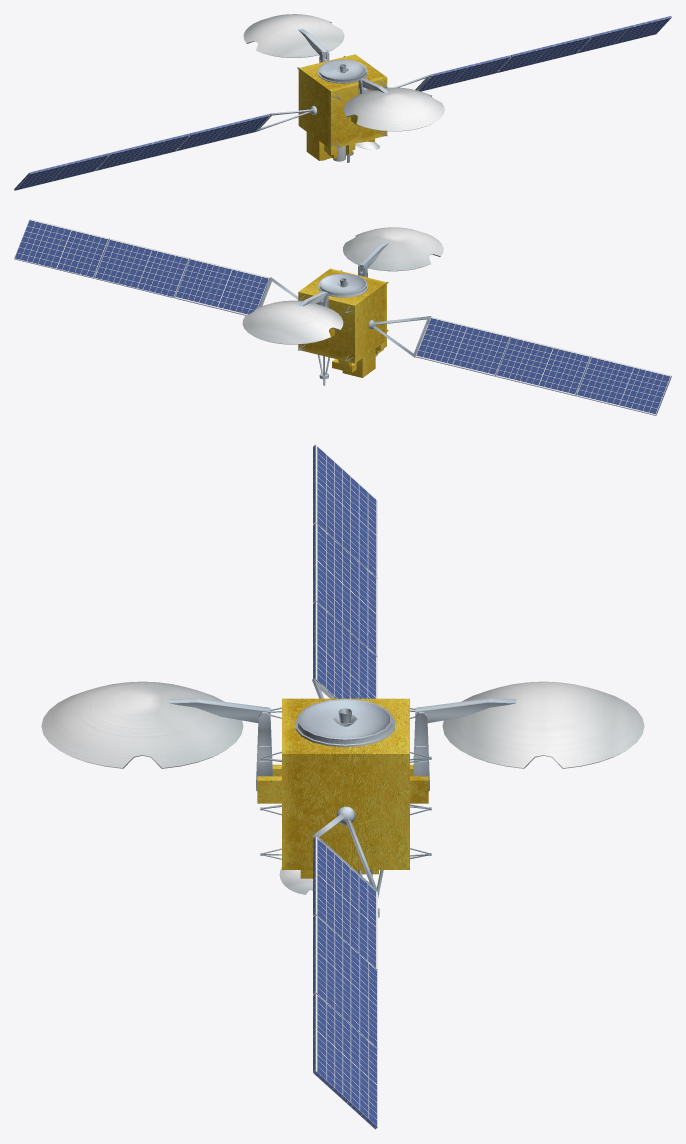
File: GPS.gltf
3 renders of one model, top to bottom at view 1: azimuth 30°, elevation 25°; view 2: azimuth 150°, elevation 25°; view 3: azimuth 270°, elevation 25°, orthographic. The views are drawn at different scales.
Parts seen in each view (by area): view 1: object 2, object 1, ZX11_09, ZX11_13, ZX11_10, ZX11_12, ZX11_15, ZX11_14, ZX11_08, ZX11_11; view 2: object 2, object 1, ZX11_13, ZX11_10, ZX11_15, ZX11_14, ZX11_12, ZX11_08, ZX11_09, ZX11_11; view 3: object 2, object 1, ZX11_09, ZX11_10, ZX11_13, ZX11_15, ZX11_08, ZX11_14, ZX11_12.
Part boxes in pixels (bbox=[...]): object 2: bbox=[243, 14, 444, 161]; object 1: bbox=[298, 54, 387, 160]; ZX11_09: bbox=[297, 29, 388, 162]; ZX11_13: bbox=[14, 153, 109, 190]; ZX11_10: bbox=[576, 16, 671, 53]; ZX11_12: bbox=[175, 114, 270, 151]; ZX11_15: bbox=[496, 35, 591, 73]; ZX11_14: bbox=[95, 133, 189, 170]; ZX11_08: bbox=[419, 55, 510, 91]; ZX11_11: bbox=[255, 105, 317, 131]; object 2: bbox=[242, 227, 443, 356]; object 1: bbox=[298, 268, 386, 377]; ZX11_13: bbox=[576, 356, 671, 415]; ZX11_10: bbox=[14, 219, 109, 278]; ZX11_15: bbox=[94, 238, 189, 298]; ZX11_14: bbox=[496, 336, 591, 396]; ZX11_12: bbox=[415, 317, 510, 376]; ZX11_08: bbox=[175, 258, 269, 315]; ZX11_09: bbox=[298, 242, 388, 385]; ZX11_11: bbox=[368, 316, 431, 357]; object 2: bbox=[41, 681, 644, 894]; object 1: bbox=[257, 698, 428, 878]; ZX11_09: bbox=[169, 698, 516, 917]; ZX11_10: bbox=[313, 993, 377, 1129]; ZX11_13: bbox=[313, 444, 377, 578]; ZX11_15: bbox=[313, 915, 377, 1048]; ZX11_08: bbox=[313, 836, 377, 970]; ZX11_14: bbox=[313, 523, 377, 657]; ZX11_12: bbox=[313, 601, 377, 698].
Bounding box in the file's own units: 55.63 × 9.13 × 22.64.
4 materials, 4 textured.
